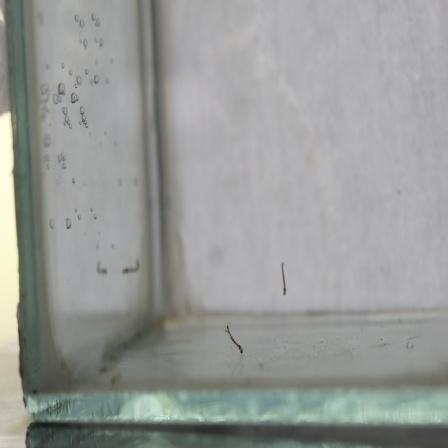Jentik-Nyamuk: (223, 323, 249, 359), (277, 259, 290, 299)
